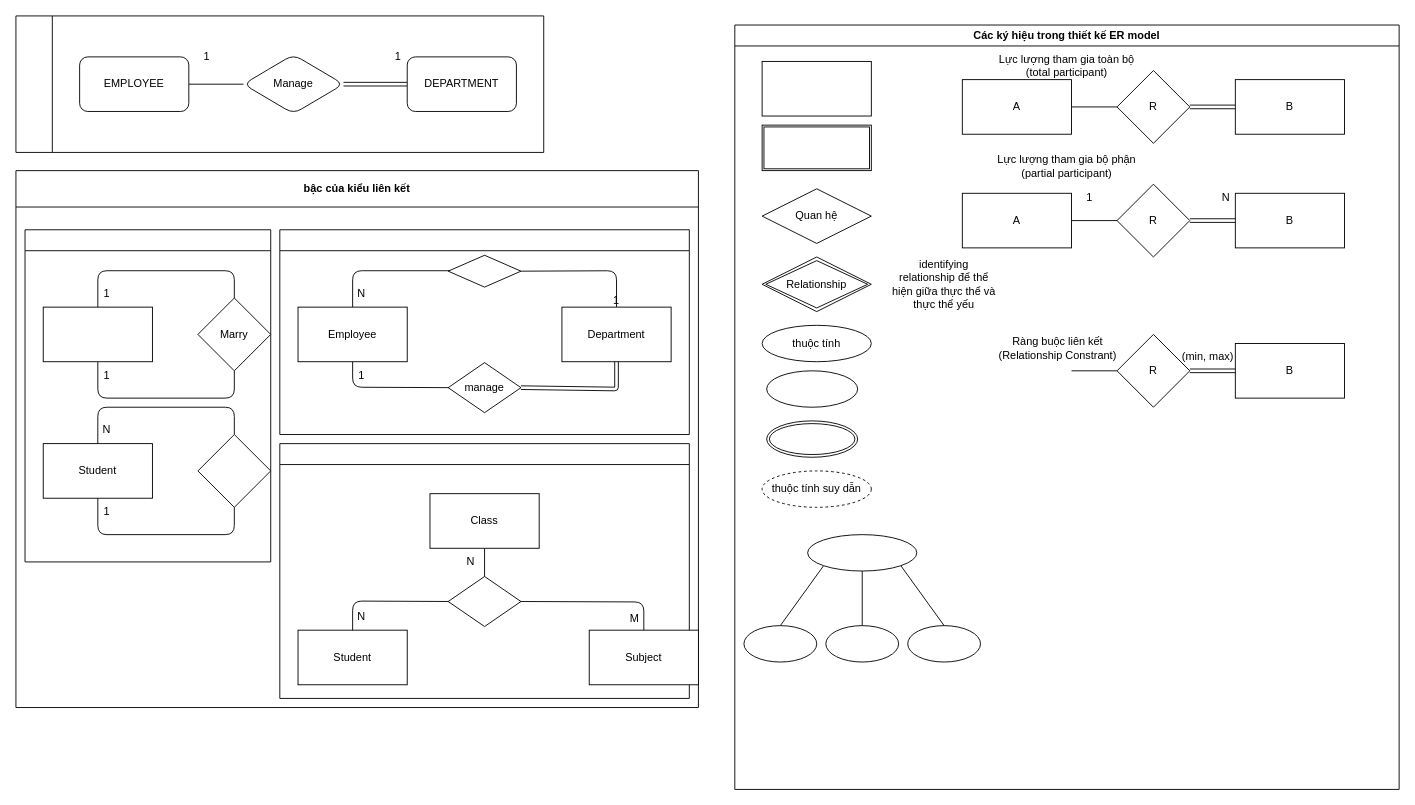
The diagram is 1415 pixels wide and 805 high, and some of its shapes have lost their labels. The shapes that lost their labels are listed below. From the top down, each one's box as (x1, y1, x2, y2) in pixels, then its label:
(15, 15, 544, 152): Ví dụ kiểu ràng buộc tham gia liên kết
(761, 61, 871, 116): Thực thể
(761, 124, 871, 171): Thực thể yếu
(447, 254, 521, 287): work
(42, 306, 152, 362): Person
(279, 229, 689, 435): Bậc 2
(24, 229, 271, 562): Bậc 1 (Đệ quy)
(766, 370, 858, 407): thuộc tính khóa chính
(766, 420, 858, 457): thuộc tính đa trị
(197, 434, 271, 507): Supervisor
(279, 443, 689, 698): Bậc 3
(807, 534, 917, 571): thuộc tính phức hợp
(447, 576, 521, 627): learn
